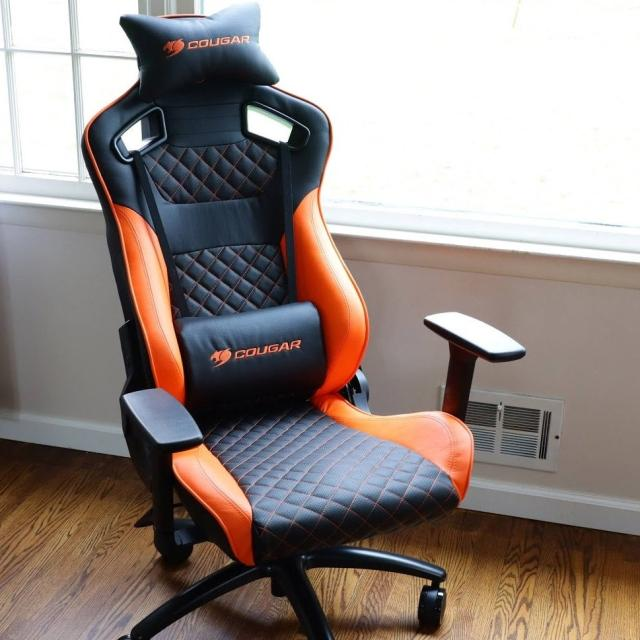chair: (31, 0, 548, 640)
